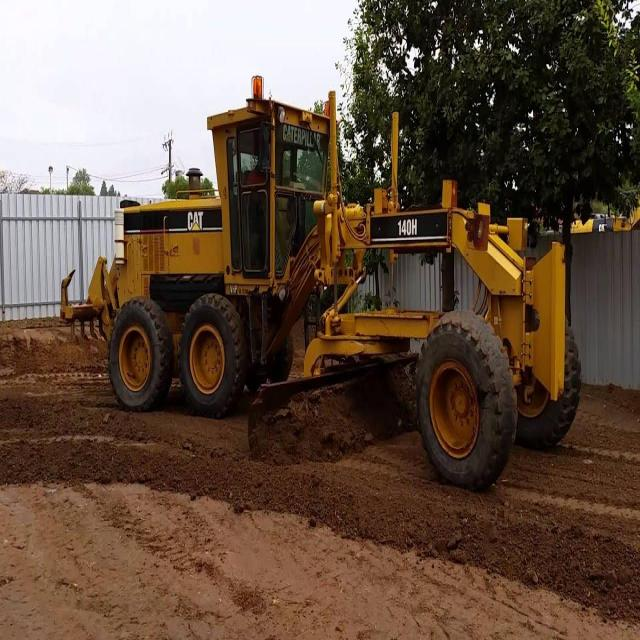Grader: (56, 68, 586, 497)
